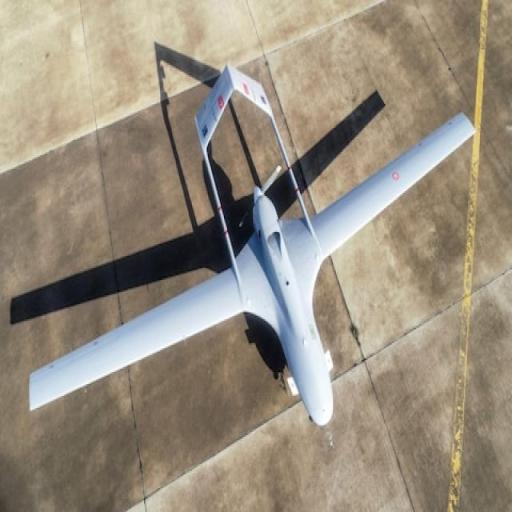uav: (8, 62, 486, 435)
